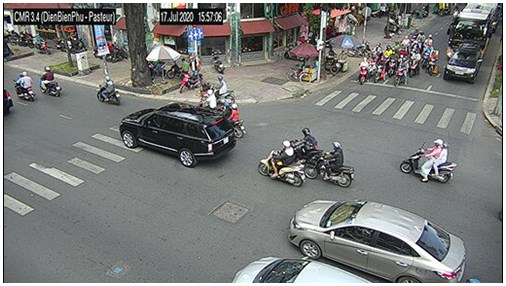xe_buyt: (447, 3, 498, 60)
xe_hoi: (288, 200, 466, 283), (119, 103, 236, 168), (443, 43, 483, 81)
xe_may: (400, 139, 457, 184), (304, 141, 355, 188), (258, 140, 306, 189), (294, 127, 322, 160), (222, 104, 247, 138), (209, 77, 236, 104), (95, 76, 121, 104), (15, 71, 37, 101), (39, 67, 61, 96), (200, 87, 220, 111), (179, 72, 202, 92), (394, 58, 409, 88), (374, 55, 388, 83), (358, 56, 369, 85), (427, 50, 439, 76), (410, 49, 420, 77)
